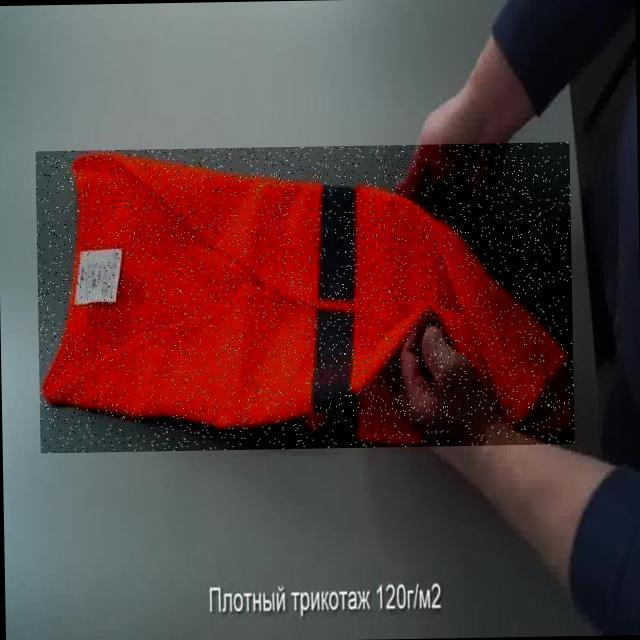Safety Vest: (35, 142, 574, 453)
bare-arms: (388, 309, 541, 483), (394, 62, 530, 224)
